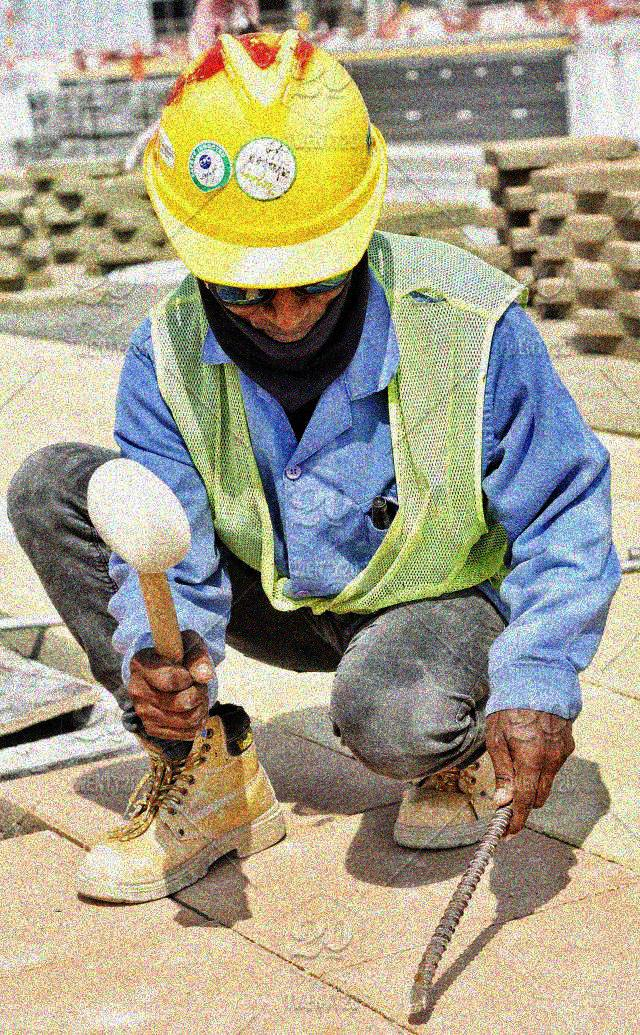helmet: (136, 27, 397, 360)
